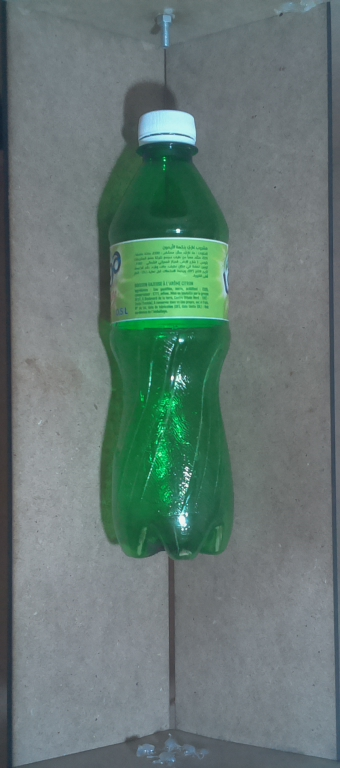Bouteille_0.5L: (100, 108, 238, 562)
